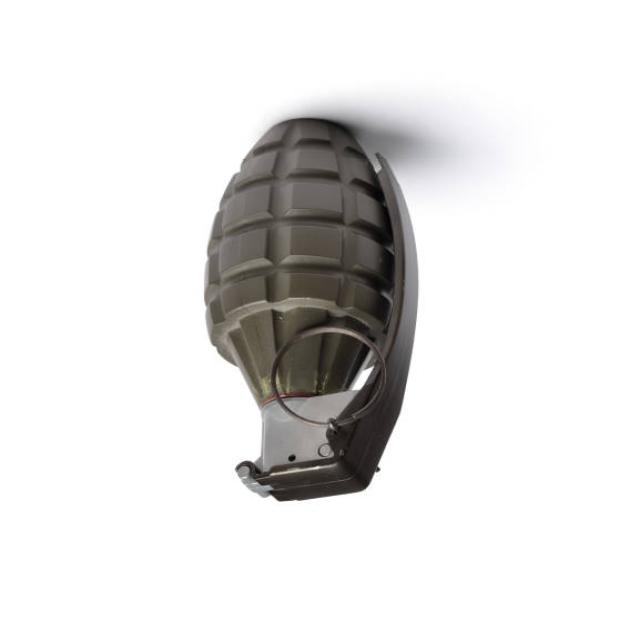grenade: (200, 105, 421, 512)
